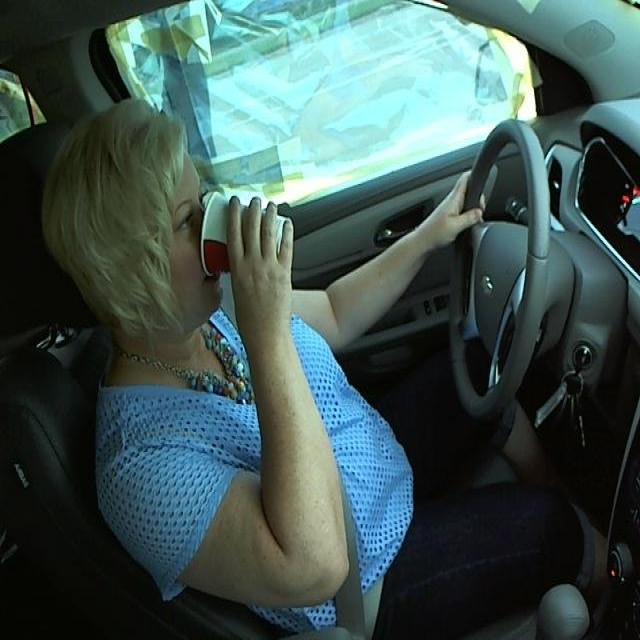drinking: (194, 178, 300, 288)
